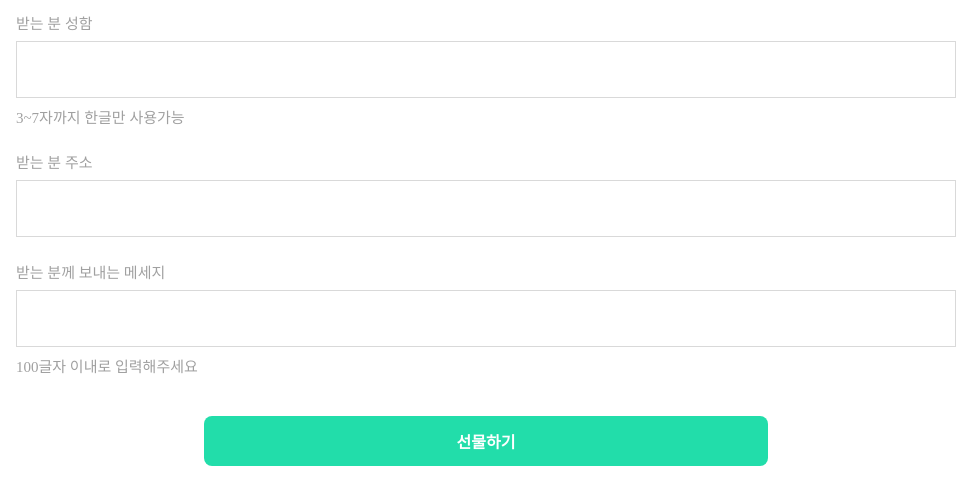
it: OrderForm › recipient name field › when did not filled recipient name field › render order failed message
Step 1. Type "서울시 조커구 아샬동" into the field labelled "받는 분 주소" → (486, 208), box [16,180,956,237]
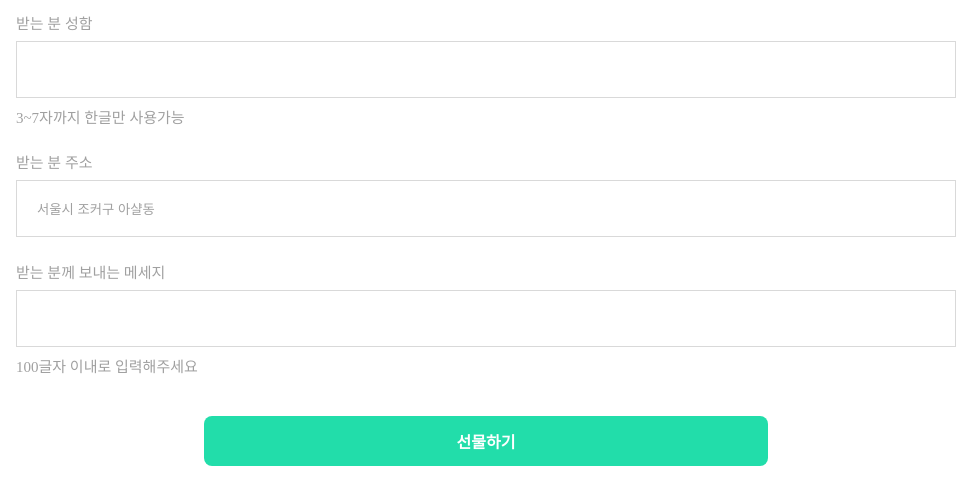
Step 2. Click the button → (486, 441), box [204,416,768,466]
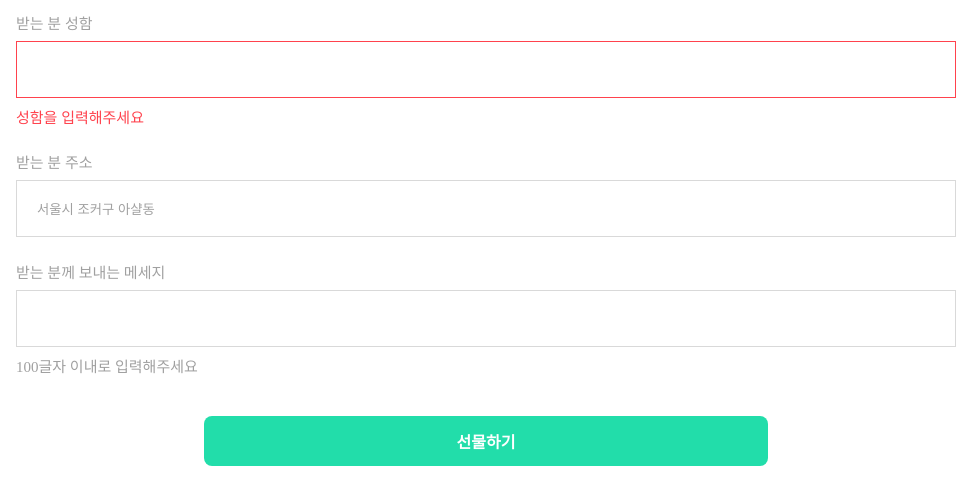
Check: the text "성함을 입력해주세요" is shown, box [16,110,144,126]
